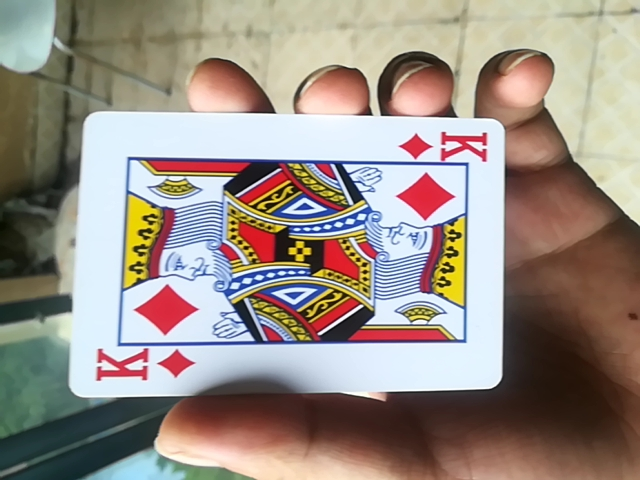fk k: (64, 109, 513, 403)
